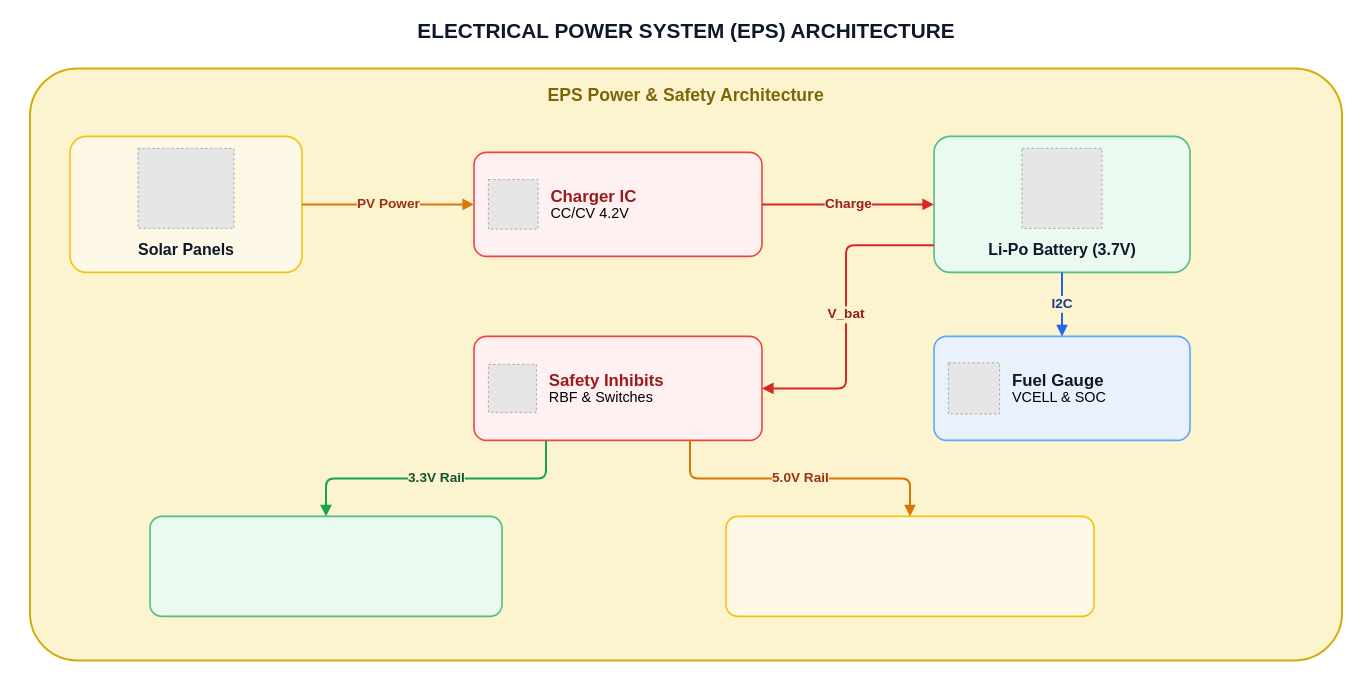
Some shapes in this 1371 by 675 pixel diagram are drawn without their labels. Grey dashed boxes stand in for pictures. Here are the shapes that lost their labels. From the top down, the centre of each, then its label:
(325,566): Buck 3.3V OBC • Sensors • COM
(909,566): Boost 5.0V + Load Switch Camera & Power Gating
